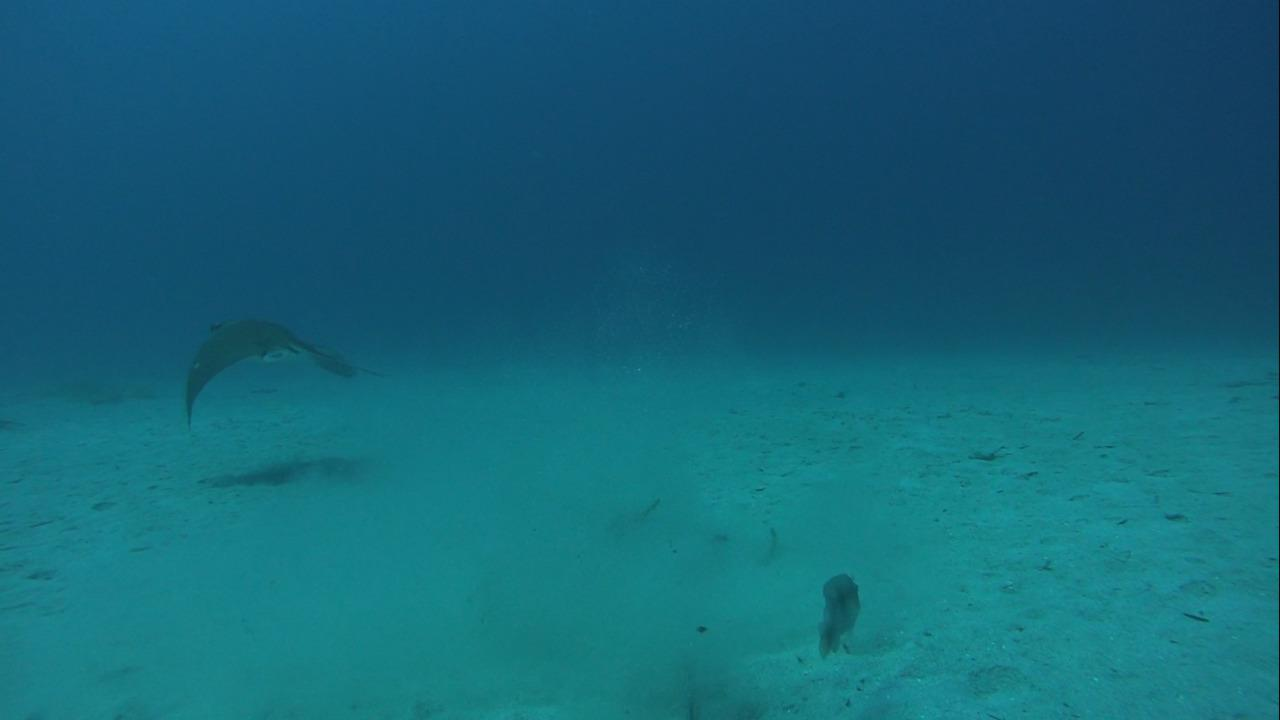myliobatis: (175, 309, 396, 431)
raor: (804, 567, 869, 658)
